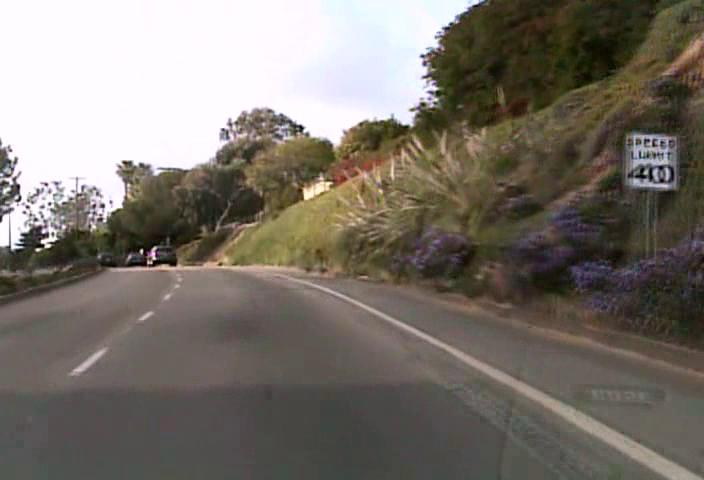speedLimit40: (625, 132, 678, 190)
